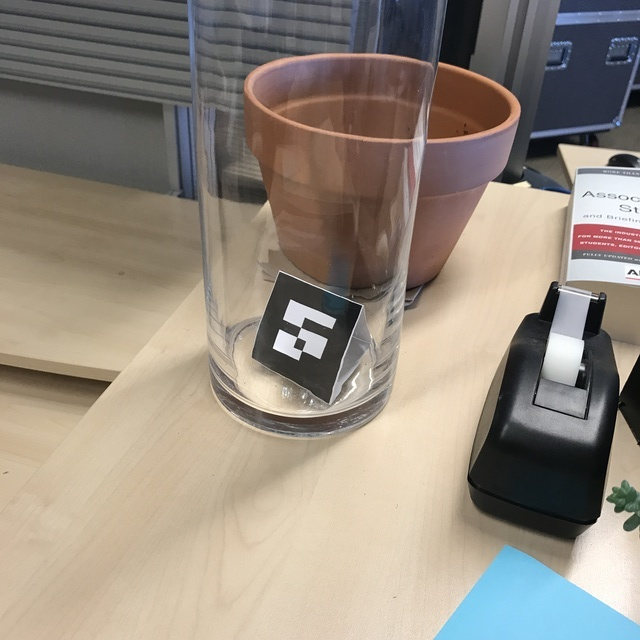ARTag: (250, 271, 371, 405)
